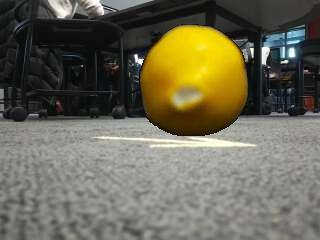lemon: (144, 24, 250, 136)
